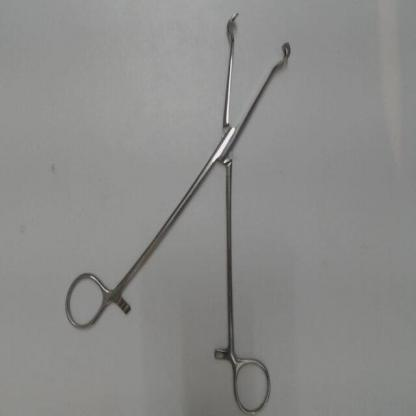8 Babcock Tissue Forceps: (60, 4, 298, 412)
